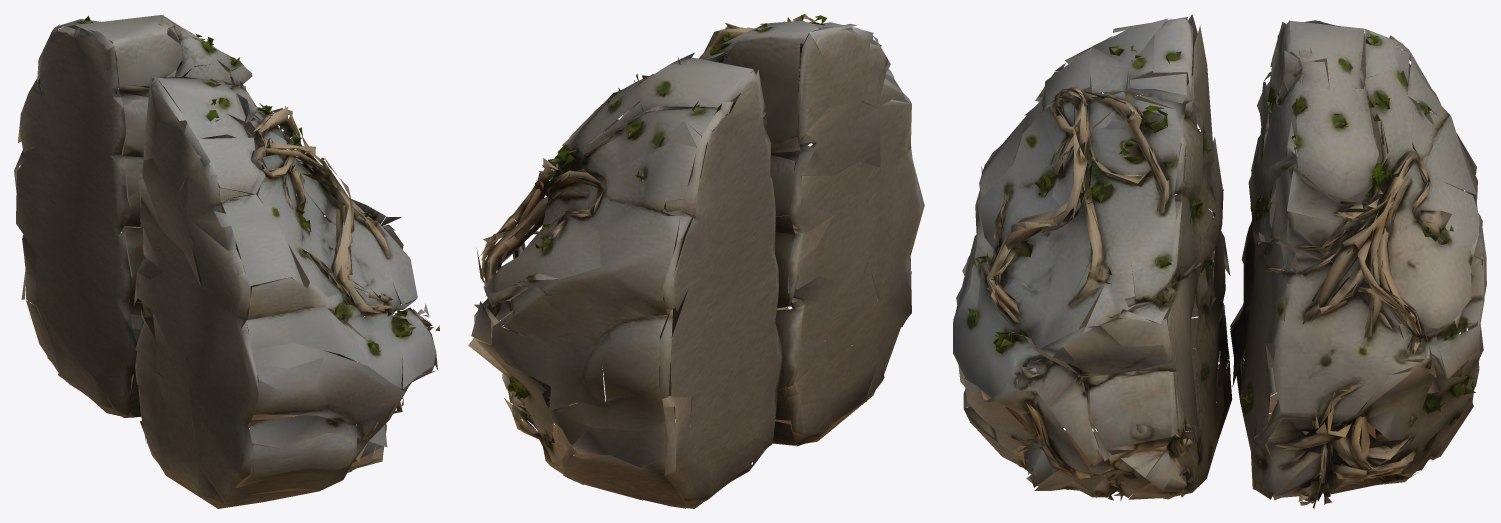
The model's file is jun_boulder_cluster_split_b_LOD2.glb.
The picture shows the model from 3 angles, left to right: view 1: azimuth 30°, elevation 25°; view 2: azimuth 150°, elevation 25°; view 3: azimuth 270°, elevation 25°; orthographic projection. The views are drawn at different scales.
Visible parts, largest first — view 1: tripo_node_0cf42a20-0608-4773-b27a-2f9978b49fdc; view 2: tripo_node_0cf42a20-0608-4773-b27a-2f9978b49fdc; view 3: tripo_node_0cf42a20-0608-4773-b27a-2f9978b49fdc.
Part boxes in pixels (left/top/right/bottom): tripo_node_0cf42a20-0608-4773-b27a-2f9978b49fdc: left=14, top=14, right=439, bottom=508; tripo_node_0cf42a20-0608-4773-b27a-2f9978b49fdc: left=468, top=14, right=924, bottom=508; tripo_node_0cf42a20-0608-4773-b27a-2f9978b49fdc: left=953, top=14, right=1486, bottom=508.
Size of the model in its own units: 0.5426 by 0.8713 by 0.9983.
Materials: 1 (1 with a texture image).
